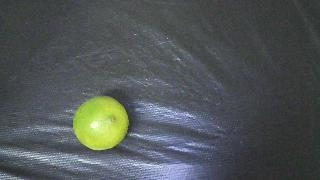LOCAL: (73, 96, 129, 150)
